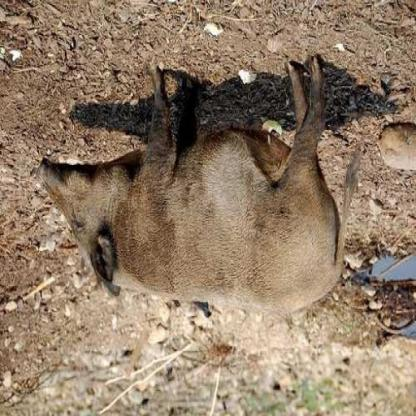boar: (6, 60, 367, 315)
